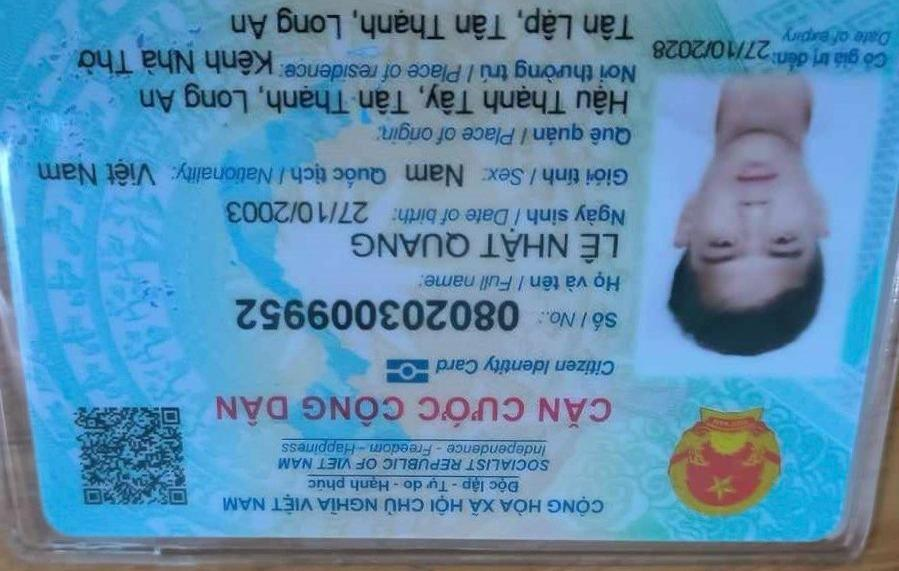ID: (370, 225, 671, 288)
birth: (520, 339, 692, 377)
name: (268, 299, 553, 346)
place: (263, 445, 770, 491)
residence: (261, 521, 677, 568), (621, 491, 827, 530)
